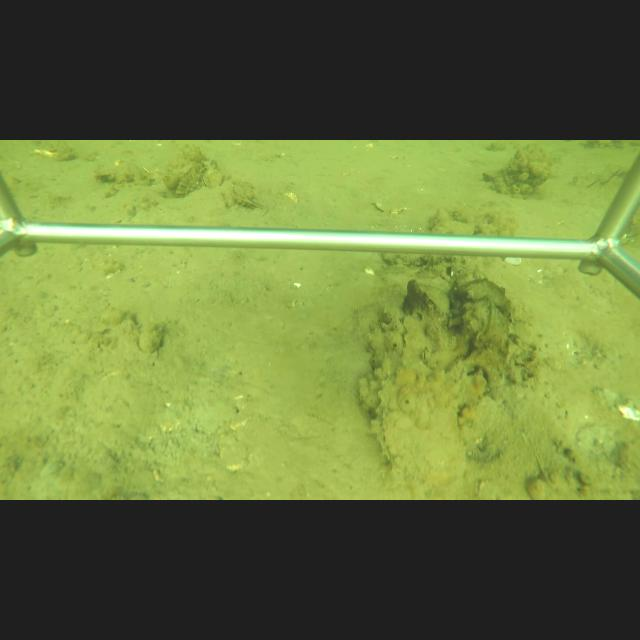Oyster-Closed: (369, 361, 472, 484), (450, 276, 516, 327), (407, 279, 452, 323), (470, 300, 499, 348), (400, 314, 429, 359)
